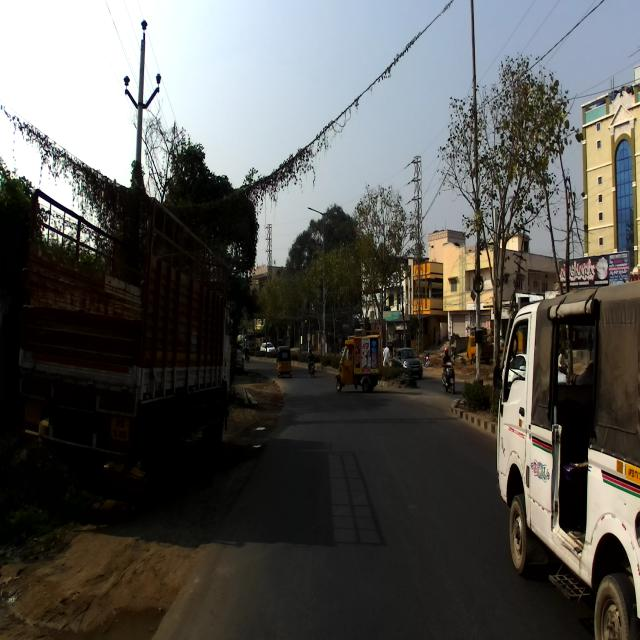car ahead at: (490, 300, 640, 639)
truck ahead at: (29, 182, 240, 494), (336, 327, 382, 403)
